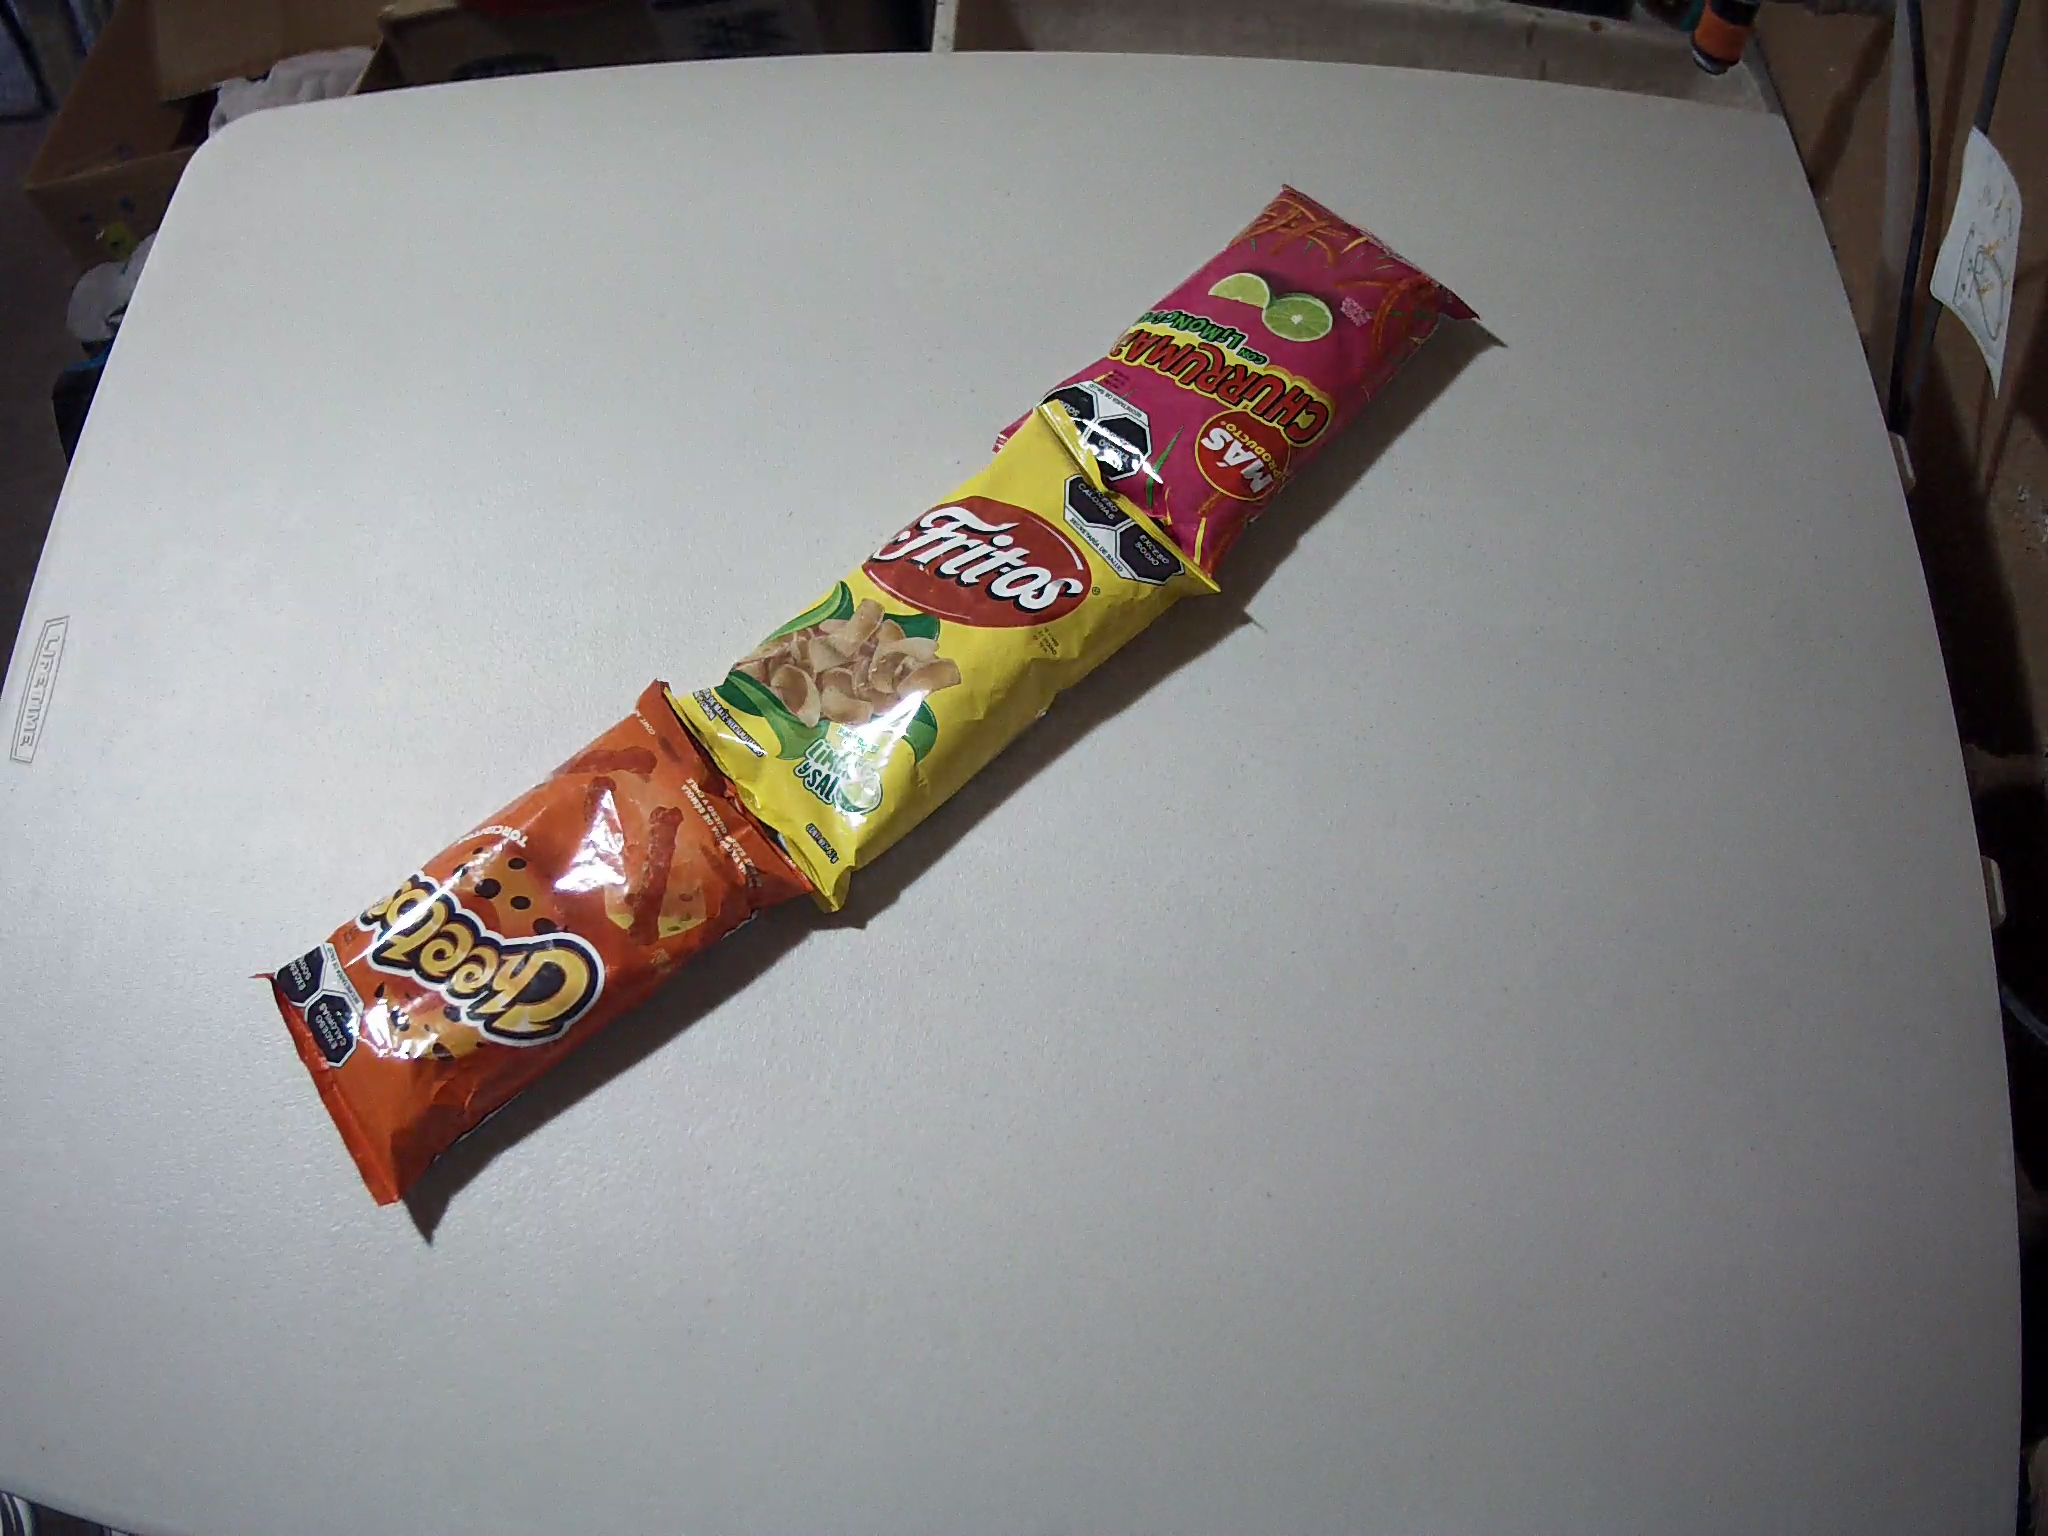CheetosTorciditos_55_F: (253, 682, 816, 1205)
Churrumais_70_F: (992, 184, 1479, 595)
FritosSalLimon_65_F: (661, 400, 1222, 912)
